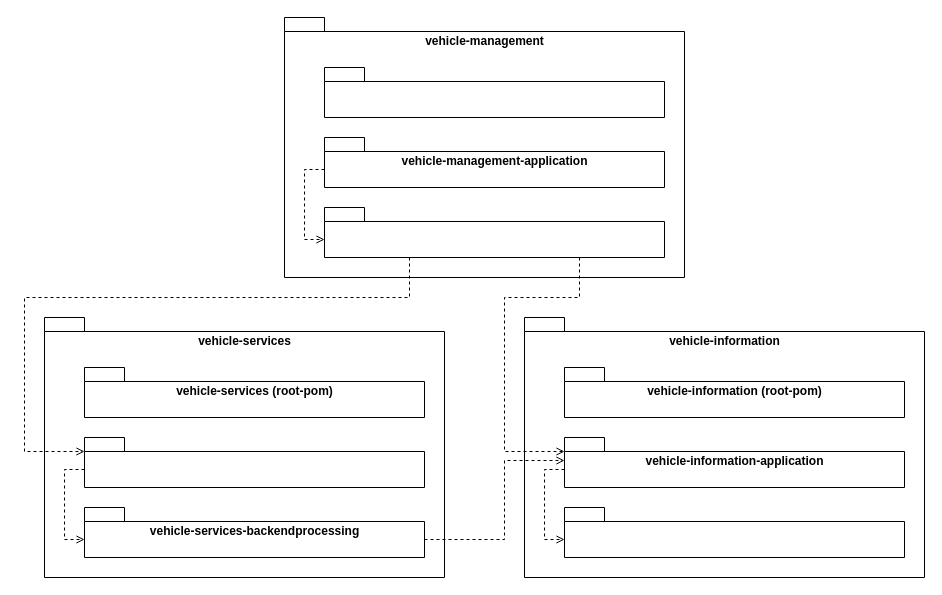
Some shapes in this 942 by 595 pixel diagram are drawn without their labels. Here are the shapes that lost their labels. From the top down, the centre of each, then its label:
the point at 494,92: vehicle-management (root-pom)
the point at 494,232: vehicle-management-backendprocessing
the point at 254,462: vehicle-services-application
the point at 734,532: vehicle-information-backendprocessing
